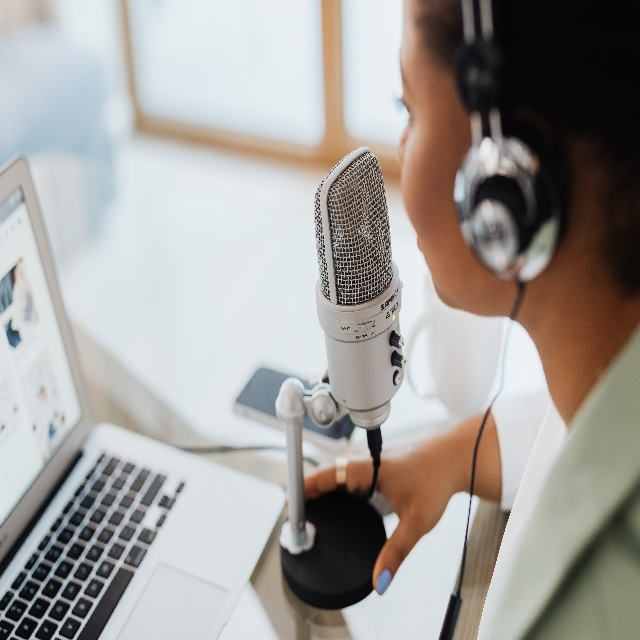Sin_guantes: (301, 444, 456, 595)
